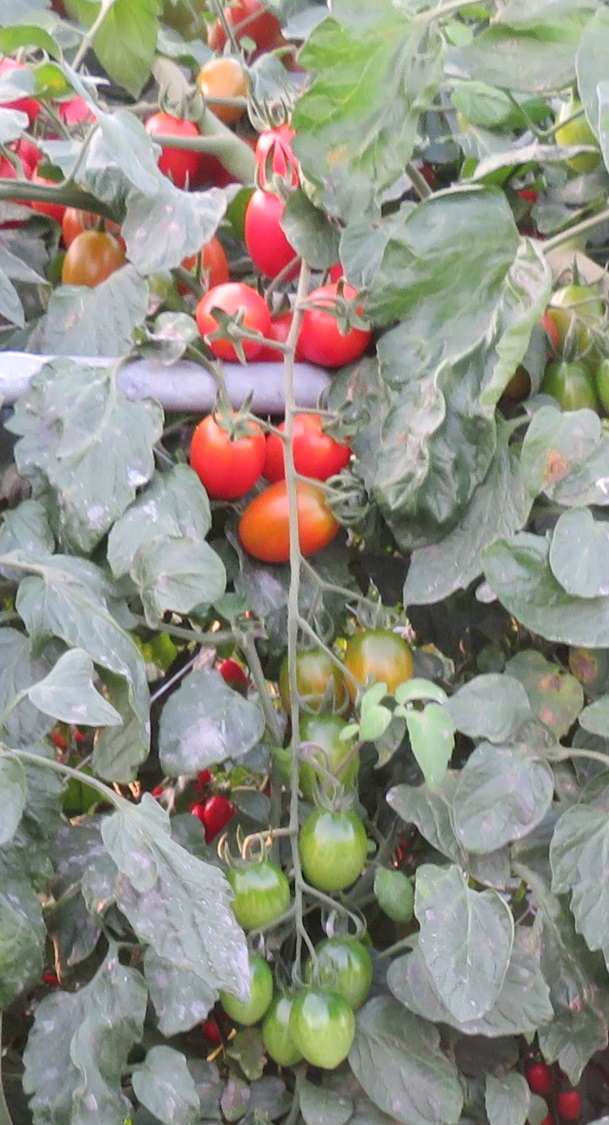green: (220, 839, 296, 925), (290, 986, 359, 1067), (305, 793, 365, 886), (347, 630, 418, 705), (296, 713, 359, 794), (279, 644, 347, 719), (311, 926, 382, 996), (220, 949, 275, 1029), (555, 96, 601, 177), (544, 282, 606, 339), (263, 993, 307, 1070), (548, 361, 597, 418)
orange: (234, 479, 374, 559), (60, 223, 130, 293), (196, 56, 252, 122)
red: (186, 403, 273, 497), (189, 282, 266, 367), (242, 180, 304, 283), (294, 284, 369, 367), (142, 110, 201, 189), (214, 1, 283, 55), (28, 154, 68, 220), (201, 793, 230, 831), (215, 656, 247, 688), (526, 1061, 551, 1095), (557, 1087, 583, 1119)
